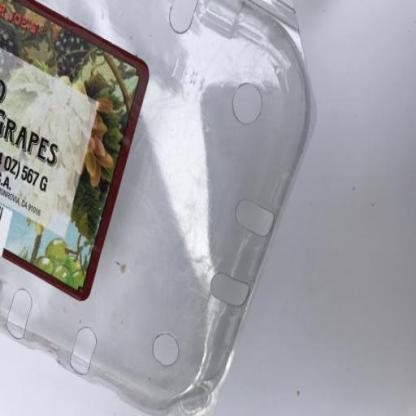trash: (0, 0, 318, 416)
